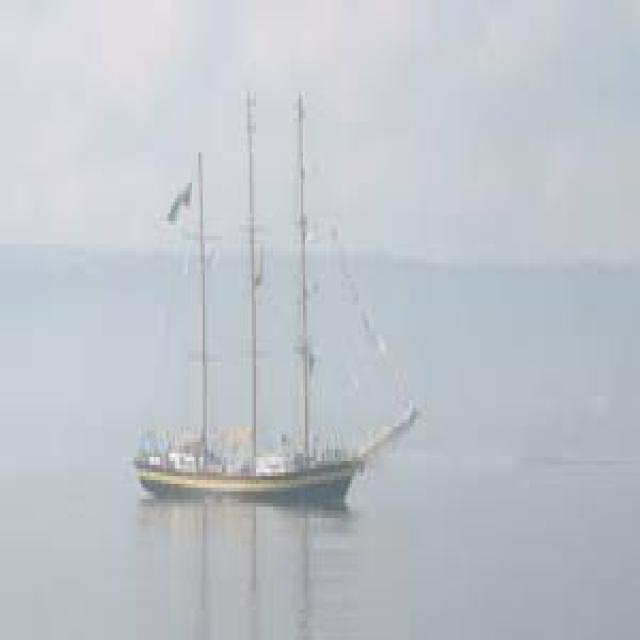fishing boat: (129, 104, 419, 506)
